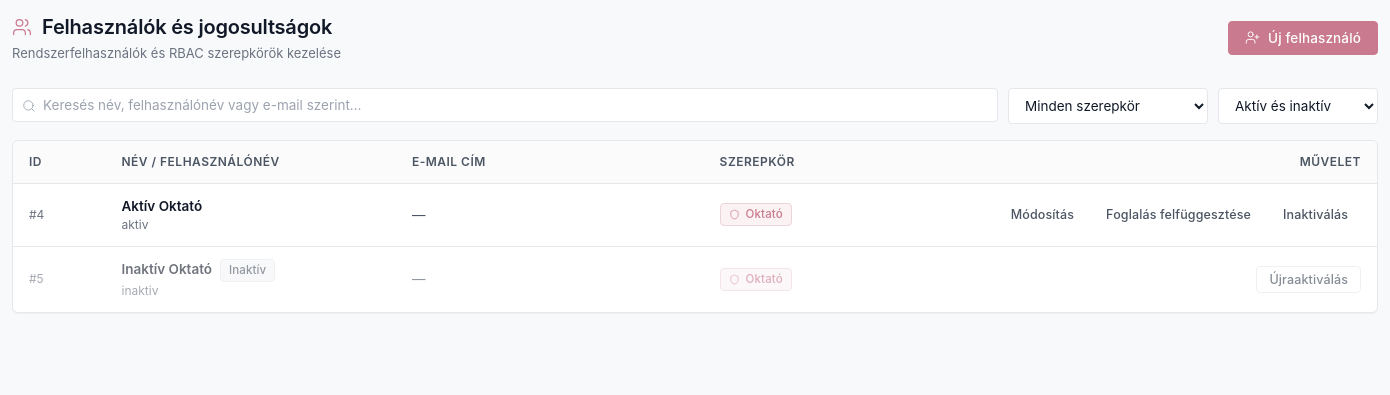
Scenario: UsersPage › deactivates a user only after confirmation
What coordinates should you click on to do the following:
click the button "Inaktiválás"
I would click on:
 (1316, 215)
Its box is [1270,201,1361,228].
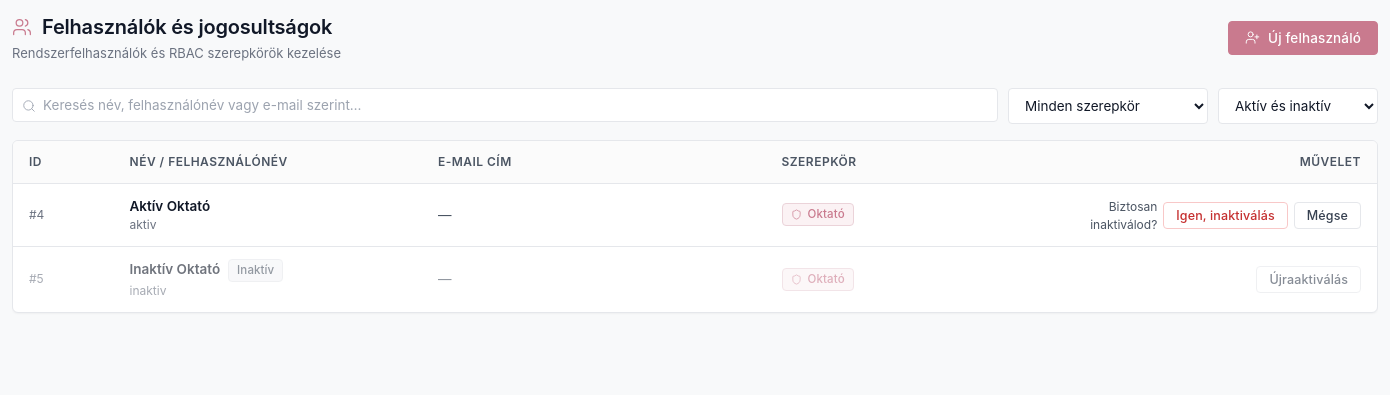
What coordinates should you click on to do the following:
click the button "Igen, inaktiválás"
I would click on:
 (1226, 216)
Its box is [1163,202,1288,229].
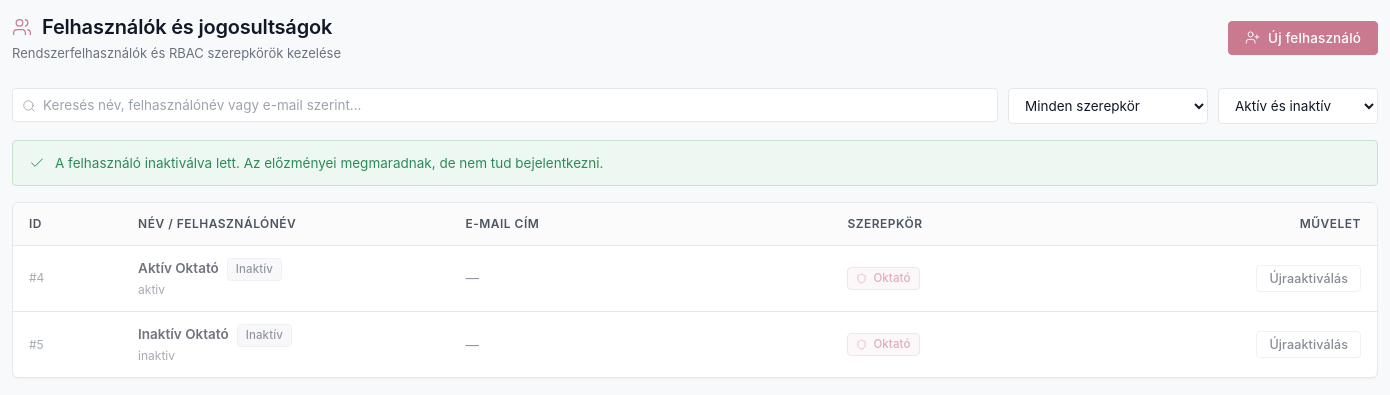
Check: the text "A felhasználó inaktiválva lett" is shown, box [55,154,603,170]
Check: the text "Inaktív" is shown 2 times, box [227,258,282,281]; [237,324,292,347]
